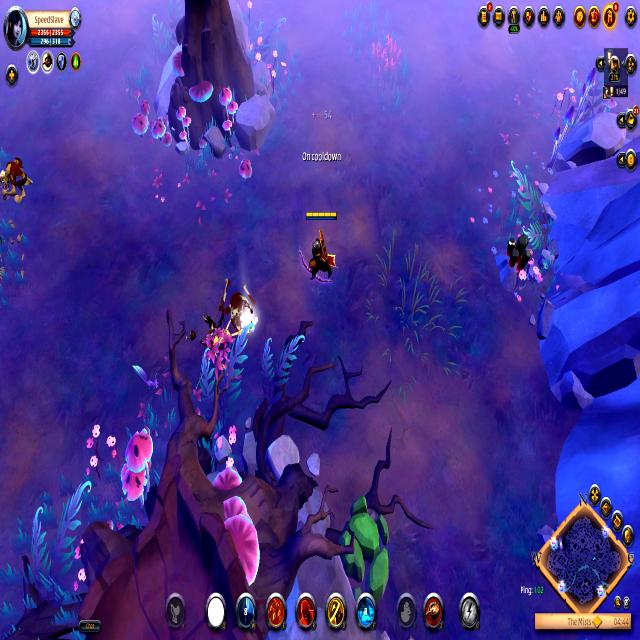ore: (0, 153, 37, 210)
player: (497, 220, 541, 291)
red: (298, 206, 341, 289)
stone: (236, 304, 258, 339)
tree: (334, 478, 399, 606)
